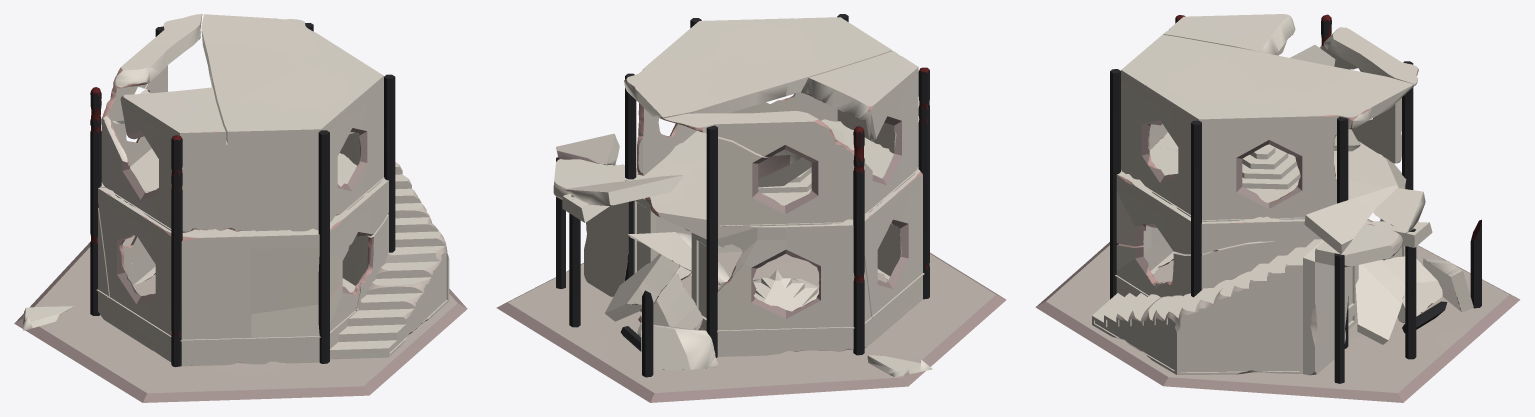
The model's file is tiny_puzzle2.0.glb.
3 views of the same model, side by side, from view 1: azimuth 30°, elevation 25°; view 2: azimuth 150°, elevation 25°; view 3: azimuth 270°, elevation 25° (orthographic).
Visible parts, largest first — view 1: level joined; view 2: level joined; view 3: level joined.
Part boxes in pixels (x1=…): level joined: x1=14, y1=14, x2=467, y2=402; level joined: x1=496, y1=14, x2=1006, y2=402; level joined: x1=1035, y1=14, x2=1520, y2=402.
Bounding box in the file's own units: 16.21 × 9.21 × 17.24.
1 material, 1 textured.
